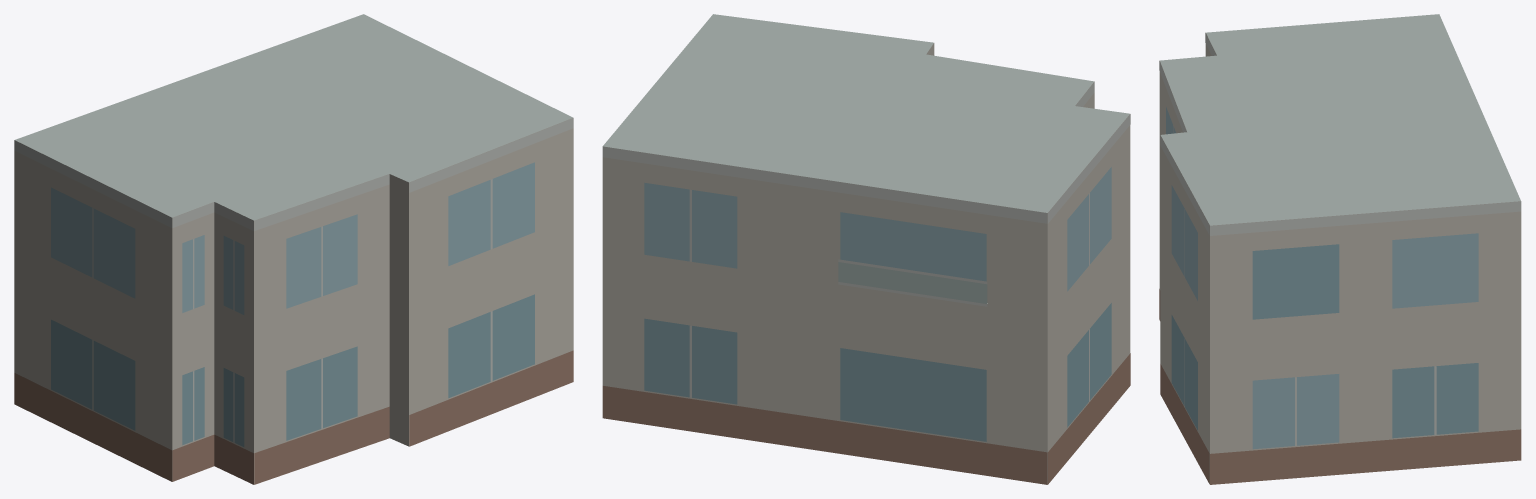
Rendered from survey-upis-32723729.glb.
3 views of the same model, side by side, from view 1: azimuth 30°, elevation 25°; view 2: azimuth 150°, elevation 25°; view 3: azimuth 270°, elevation 25° (orthographic). The views are drawn at different scales.
Parts seen in each view (by area): view 1: survey-upis-32723729.tmp; view 2: survey-upis-32723729.tmp; view 3: survey-upis-32723729.tmp.
Part boxes in pixels (x1,y1,x2,y2): survey-upis-32723729.tmp: (14,14,573,484); survey-upis-32723729.tmp: (602,14,1130,484); survey-upis-32723729.tmp: (1159,14,1521,484).
Bounding box in the file's own units: 10.69 × 6.1 × 7.72.
